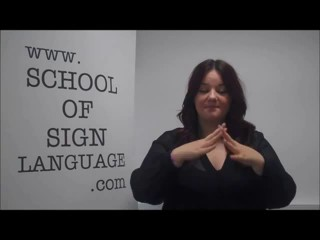W: (179, 115, 263, 171)
